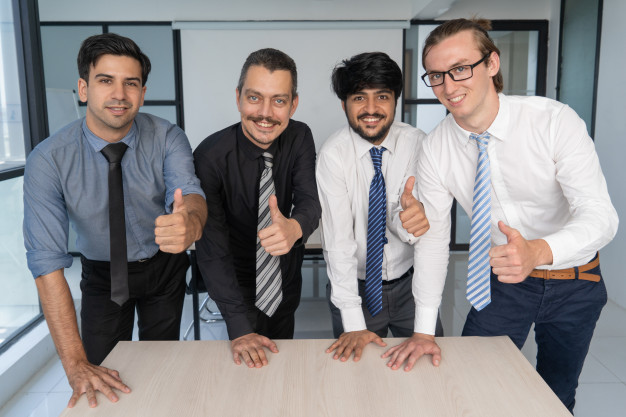thumbsup: (488, 220, 525, 283), (154, 187, 188, 254), (258, 194, 290, 256), (399, 175, 430, 237)
